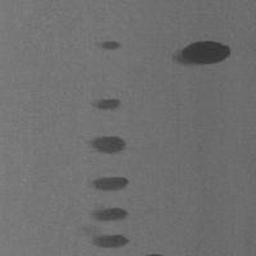Oil spot: (74, 202, 131, 250), (168, 38, 233, 68), (84, 134, 128, 156), (84, 175, 131, 193), (87, 96, 128, 113), (93, 40, 123, 52), (143, 251, 164, 256)
